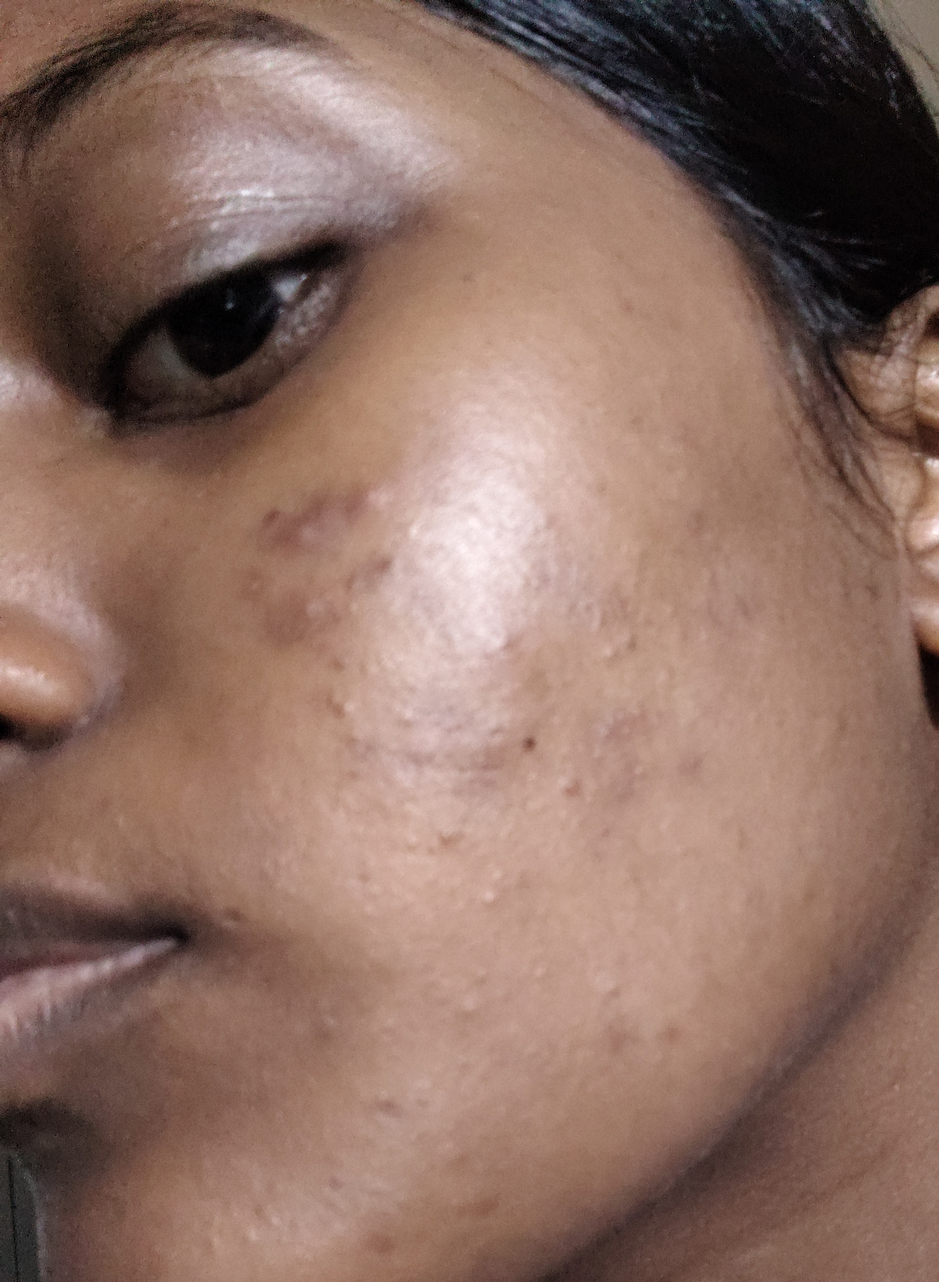closed_comedone: (461, 846, 514, 939), (273, 579, 347, 643), (315, 683, 381, 751), (372, 692, 423, 757)
papule: (353, 463, 406, 541)
